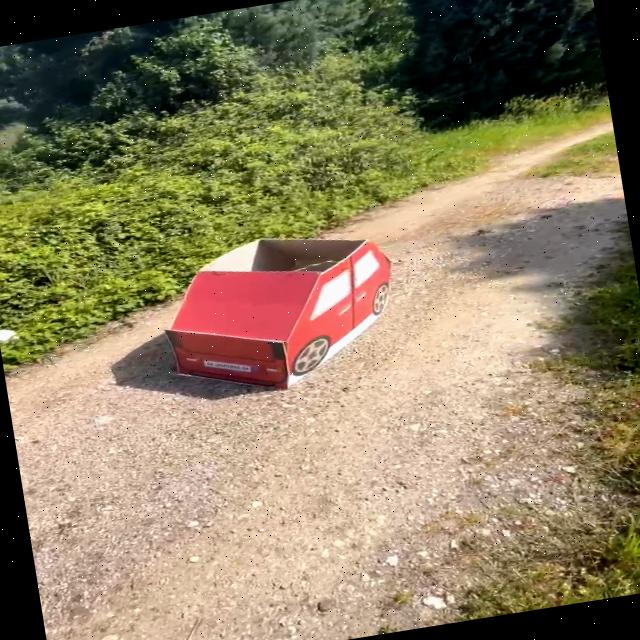red_car: (113, 212, 428, 421)
